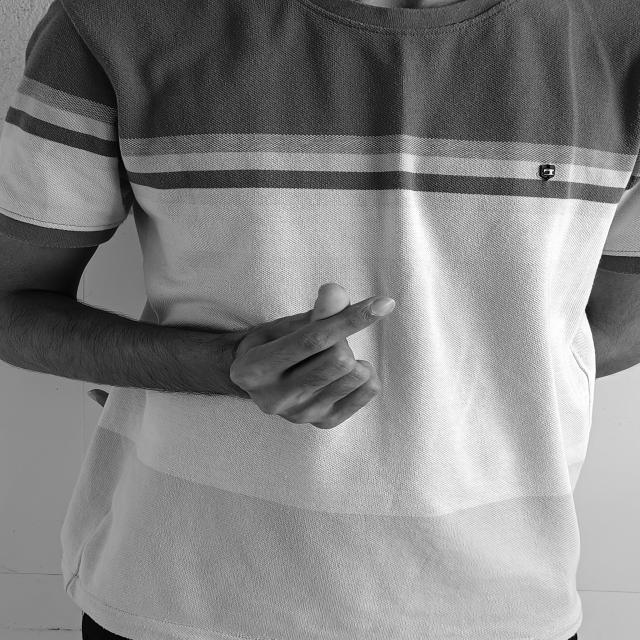Grattitude: (202, 270, 446, 438)
